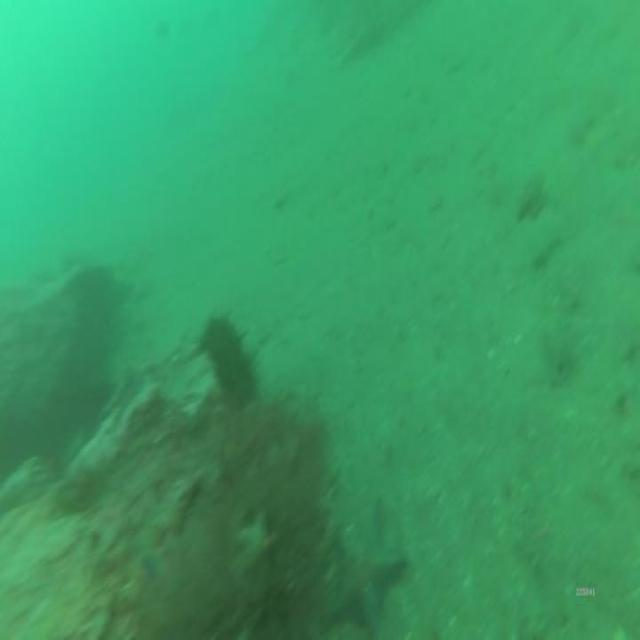echinus: (204, 312, 254, 398)
starfish: (338, 504, 401, 632)
